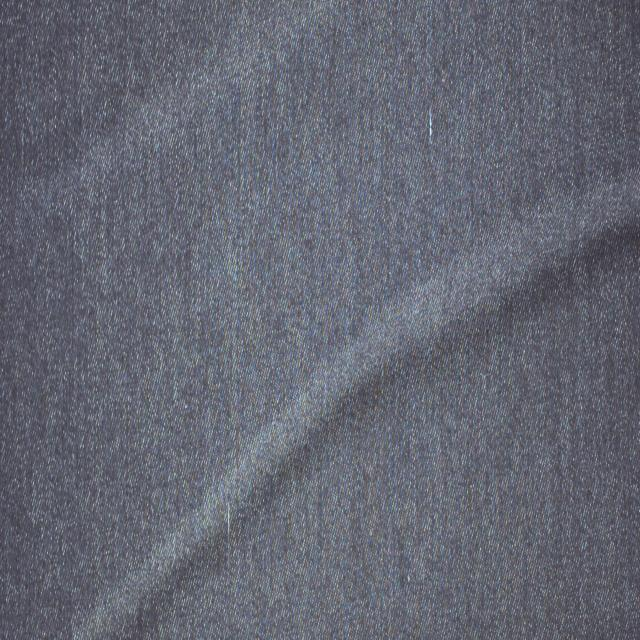broken_yarn: (75, 157, 640, 639)
